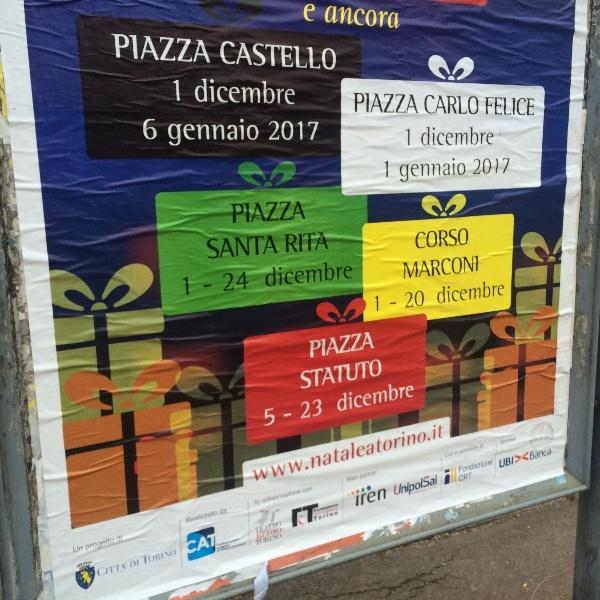text: (257, 420, 272, 484), (273, 420, 288, 484), (289, 420, 304, 484), (305, 420, 320, 484), (321, 420, 336, 484), (337, 420, 352, 484), (353, 420, 368, 484), (369, 420, 384, 484), (385, 420, 400, 484), (401, 420, 416, 484), (417, 420, 432, 484), (433, 420, 446, 484), (337, 379, 352, 413), (353, 379, 368, 413), (369, 379, 384, 413), (385, 379, 400, 413), (321, 41, 337, 71), (337, 259, 353, 288), (113, 34, 128, 64), (129, 34, 144, 64), (145, 34, 160, 64), (161, 34, 176, 64), (177, 34, 192, 64), (193, 34, 208, 64), (225, 41, 240, 71), (241, 41, 256, 71), (257, 41, 272, 71), (273, 41, 288, 71), (289, 41, 304, 71), (305, 41, 320, 71), (177, 118, 192, 148), (193, 118, 208, 148), (209, 118, 224, 148), (225, 118, 240, 148), (241, 118, 256, 148), (305, 359, 320, 389), (321, 359, 336, 389), (337, 359, 352, 389), (353, 359, 368, 389), (401, 472, 416, 502), (417, 472, 432, 502), (401, 379, 414, 413), (273, 259, 288, 288), (289, 259, 304, 288), (305, 259, 320, 288), (321, 259, 336, 288), (209, 78, 224, 105), (225, 78, 240, 105), (241, 78, 256, 105), (257, 78, 272, 105), (273, 78, 288, 105), (369, 485, 384, 512), (321, 333, 336, 359), (337, 333, 352, 359), (353, 333, 368, 359), (369, 359, 382, 389), (401, 157, 416, 183), (417, 157, 432, 183), (433, 157, 448, 183), (449, 157, 464, 183), (385, 5, 401, 29), (250, 420, 256, 484), (209, 235, 224, 260), (225, 235, 240, 260), (241, 235, 256, 260), (257, 235, 272, 260), (449, 280, 464, 305), (465, 280, 480, 305), (481, 280, 496, 305), (225, 270, 240, 295), (337, 5, 352, 29), (353, 5, 368, 29), (369, 5, 384, 29), (305, 398, 320, 422), (195, 78, 208, 105), (355, 485, 368, 512), (241, 201, 256, 224), (257, 201, 272, 224), (273, 201, 288, 224), (289, 201, 304, 224), (193, 533, 208, 556), (417, 227, 432, 250), (433, 227, 448, 250), (449, 227, 464, 250), (417, 256, 432, 279), (433, 256, 448, 279), (449, 256, 464, 279), (402, 256, 416, 279), (289, 232, 304, 253), (305, 232, 320, 253), (353, 93, 368, 114), (369, 93, 384, 114), (385, 93, 400, 114), (401, 93, 416, 114), (433, 95, 448, 116), (449, 95, 464, 116), (273, 121, 288, 141), (289, 121, 304, 141), (305, 121, 320, 141), (497, 97, 512, 117), (513, 97, 528, 117), (433, 127, 448, 147), (449, 127, 464, 147), (465, 127, 480, 147), (145, 118, 158, 141), (465, 256, 478, 279), (465, 95, 479, 116), (309, 333, 320, 359), (481, 159, 496, 177), (497, 159, 512, 177), (465, 458, 480, 476), (481, 127, 494, 147), (438, 280, 448, 305), (241, 270, 251, 295), (168, 118, 176, 148), (484, 97, 496, 117), (97, 563, 112, 579), (145, 549, 160, 565), (161, 549, 176, 565), (182, 275, 192, 299), (530, 446, 544, 463), (405, 288, 416, 309), (230, 201, 240, 224), (97, 538, 112, 553), (327, 5, 336, 29), (481, 458, 493, 476), (393, 472, 400, 502), (433, 472, 440, 502), (113, 563, 126, 579), (422, 127, 432, 147), (405, 128, 416, 146), (305, 3, 315, 22), (289, 78, 296, 105), (417, 288, 426, 309), (499, 455, 512, 469), (321, 511, 336, 523), (264, 407, 272, 429), (497, 280, 504, 305), (266, 259, 272, 288), (321, 232, 329, 253), (85, 538, 96, 553), (375, 295, 384, 313), (209, 533, 216, 556), (369, 333, 375, 359), (425, 95, 432, 116), (473, 159, 480, 177), (130, 560, 144, 569), (273, 235, 278, 260), (220, 41, 224, 71), (300, 359, 304, 389), (529, 97, 535, 117), (545, 446, 552, 463), (187, 533, 192, 556), (458, 458, 464, 476), (116, 535, 128, 544), (172, 79, 176, 102), (465, 227, 469, 250), (209, 34, 212, 64), (465, 472, 473, 483), (284, 232, 288, 253), (313, 511, 320, 523), (385, 160, 389, 179), (301, 398, 304, 422), (177, 79, 180, 102), (458, 472, 464, 483), (273, 407, 276, 429), (389, 301, 400, 307), (257, 118, 259, 148), (269, 121, 272, 141), (73, 546, 80, 554), (385, 485, 387, 512), (206, 235, 208, 260), (222, 270, 224, 295), (321, 398, 323, 422), (449, 451, 454, 460), (283, 411, 288, 420), (417, 93, 419, 114), (444, 451, 448, 460), (289, 411, 293, 420), (142, 549, 144, 565), (111, 34, 112, 64), (113, 538, 115, 553), (513, 455, 515, 469), (204, 282, 208, 289), (209, 282, 213, 289), (465, 157, 466, 183), (337, 511, 339, 523), (81, 546, 84, 554), (143, 118, 144, 141), (305, 201, 306, 224)
